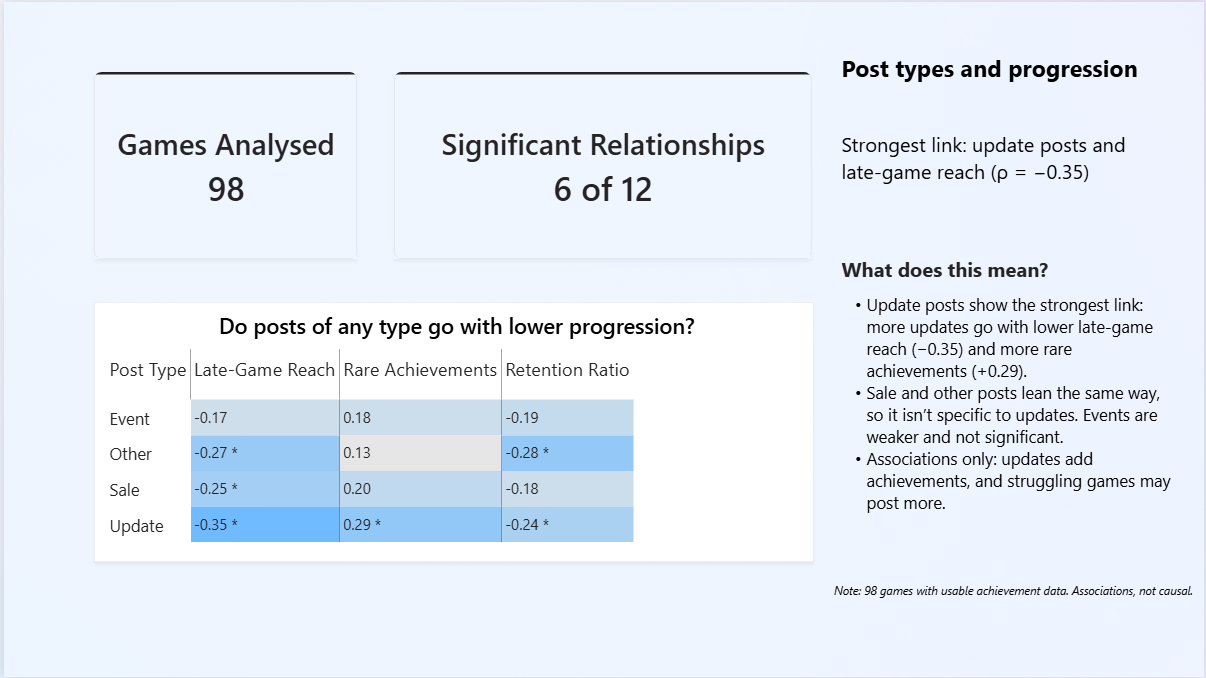

This screenshot's page, from the dashboard's own definition file:
{"tool":"powerbi","page":{"name":"Post Types","canvas":[1920,1080],"ordinal":1},"visuals":[{"type":"pivotTable","title":"Do posts of any type go with lower progression?","fields":{"Columns":["post_type_correlations.Outcome"],"Rows":["post_type_correlations.Post Type"],"Values":["post_type_correlations.Rho Label"]},"box":[144,480,1152,416],"z":0},{"type":"textbox","box":[1328,928,592,64],"z":1000},{"type":"cardVisual","fields":{"Data":["scorecard.Games Analysed"]},"box":[144,112,421.9,299.7],"z":2000},{"type":"cardVisual","fields":{"Data":["post_type_correlations.Significant Summary"]},"box":[624,112,668.4,299.7],"z":3000},{"type":"textbox","box":[1340.7,205.1,508.7,102.5],"z":4000},{"type":"textbox","box":[1340.7,406.2,528.4,449.5],"z":5000},{"type":"textbox","box":[1340.7,80.8,508.7,69],"z":6000}]}

Visuals, with their boxes in screenshot pixels (x1, y1, x2, y2), scaled from the page's 1920x1080 canvas onto the 1206x678 screenshot:
"Do posts of any type go with lower progression?" pivotTable: box=[90, 301, 814, 562]
textbox: box=[834, 583, 1205, 623]
cardVisual - scorecard.Games Analysed: box=[90, 70, 355, 258]
cardVisual - post_type_correlations.Significant Summary: box=[392, 70, 812, 258]
textbox: box=[842, 129, 1162, 193]
textbox: box=[842, 255, 1174, 537]
textbox: box=[842, 51, 1162, 94]
